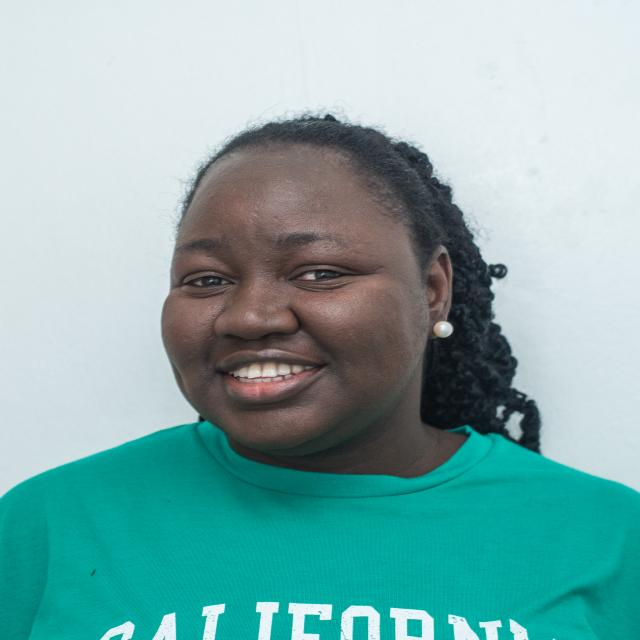happy: (146, 115, 451, 462)
